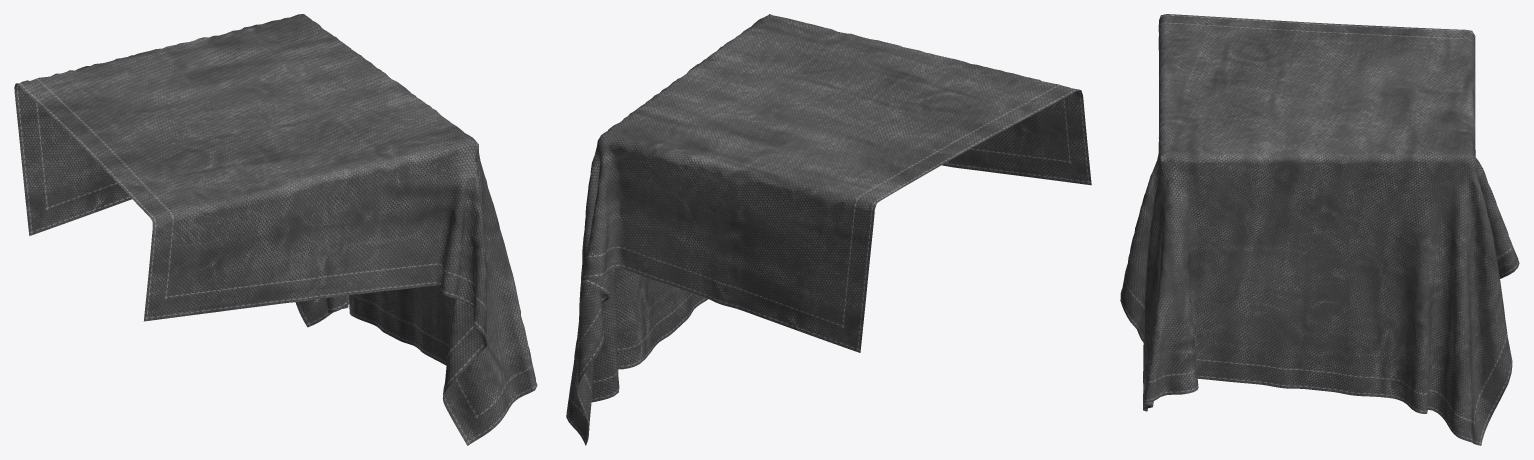
The model's file is SM_Tarp_WaterTank04.glb.
The picture shows the model from 3 angles, left to right: view 1: azimuth 30°, elevation 25°; view 2: azimuth 150°, elevation 25°; view 3: azimuth 270°, elevation 25°; orthographic projection. The views are drawn at different scales.
Parts seen in each view (by area): view 1: SM_Tarp_WaterTank04; view 2: SM_Tarp_WaterTank04; view 3: SM_Tarp_WaterTank04.
Boxes of the visible parts, bbox=[...] form: SM_Tarp_WaterTank04: bbox=[14, 14, 537, 445]; SM_Tarp_WaterTank04: bbox=[566, 14, 1091, 445]; SM_Tarp_WaterTank04: bbox=[1120, 14, 1519, 445].
Bounding box in the file's own units: 1.32 × 1.05 × 1.32.
1 material, 1 textured.
